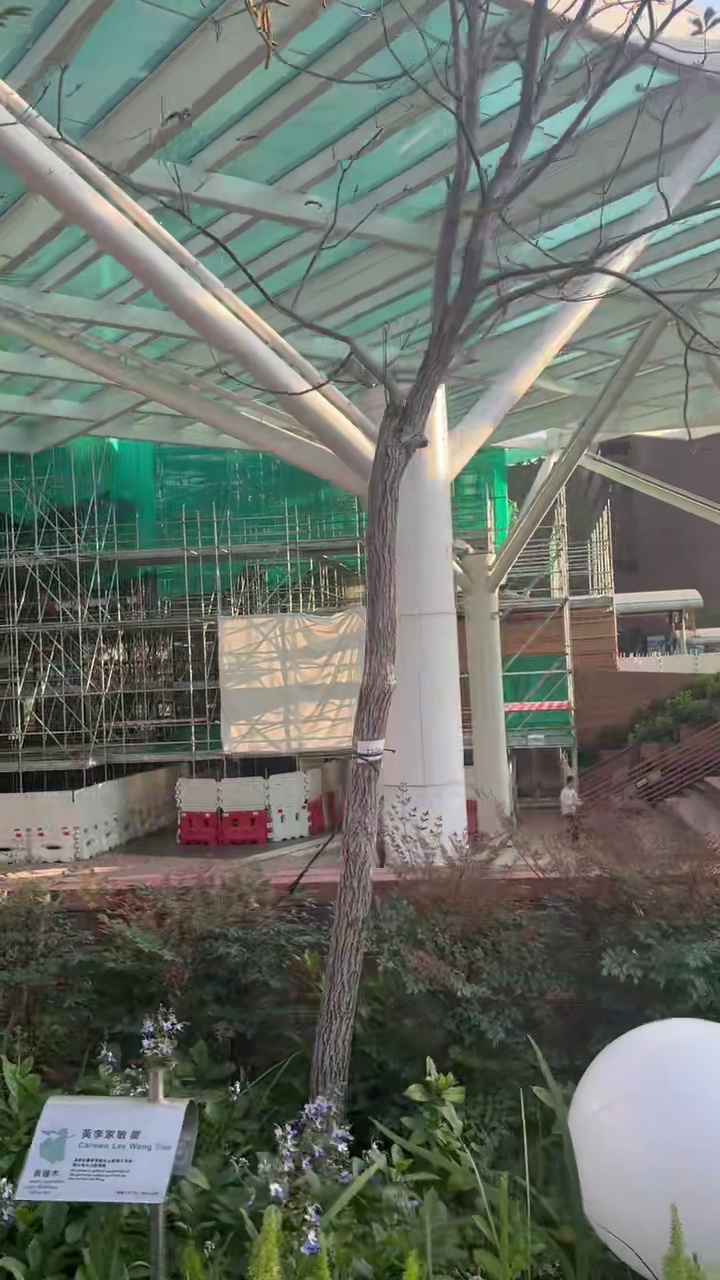Tabebuia chrysantha: (305, 0, 670, 1102)
